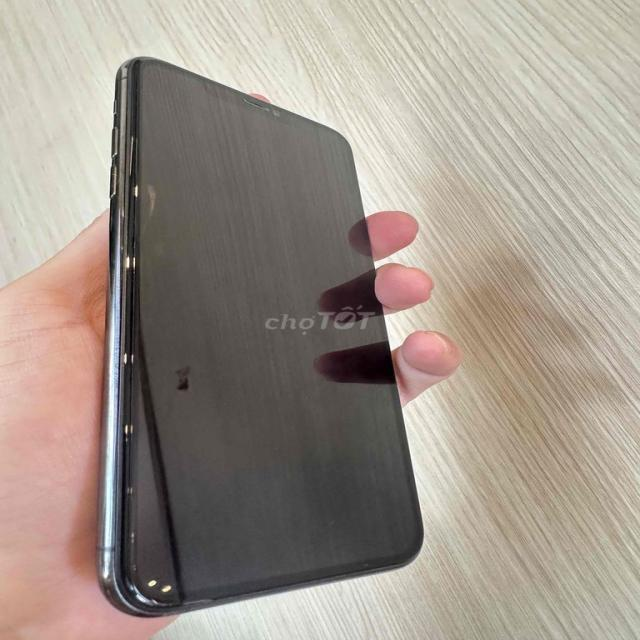scratch: (77, 46, 439, 634), (110, 114, 134, 236), (100, 540, 142, 589), (165, 595, 230, 616), (324, 513, 344, 535), (355, 561, 381, 576)
screen_defect: (142, 175, 176, 232)
